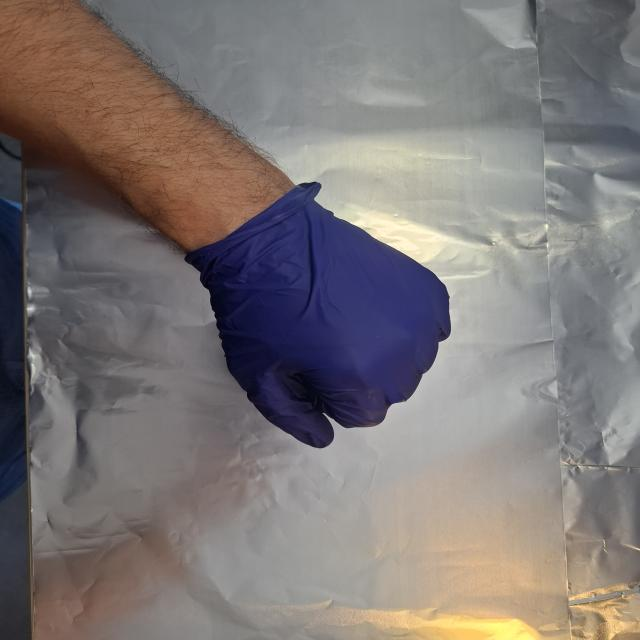glove_on: (192, 184, 454, 450)
